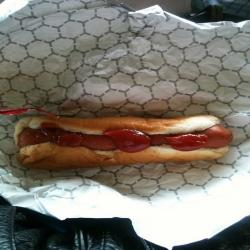hotdog: (4, 102, 241, 175)
